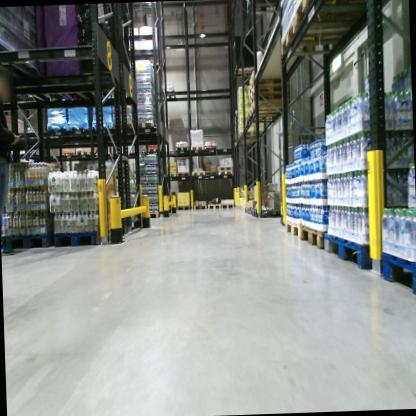pallet: (276, 10, 357, 62), (294, 0, 373, 33), (322, 228, 375, 272), (0, 37, 41, 89), (53, 221, 121, 252), (379, 249, 416, 297), (297, 221, 328, 253), (245, 67, 287, 90), (2, 235, 58, 252), (248, 78, 288, 96), (246, 0, 288, 17), (249, 101, 284, 119), (248, 85, 285, 102), (250, 93, 286, 110), (245, 109, 281, 125), (252, 207, 285, 219), (285, 215, 300, 240), (133, 117, 161, 130), (45, 118, 66, 134), (113, 115, 134, 131), (90, 121, 114, 133), (65, 119, 89, 131), (238, 130, 265, 140), (145, 208, 168, 218), (234, 65, 249, 80), (130, 147, 148, 158), (192, 198, 207, 211), (162, 87, 176, 98), (148, 146, 165, 155), (204, 145, 220, 153), (220, 200, 236, 208), (59, 150, 75, 158), (207, 201, 221, 210), (75, 149, 90, 157), (176, 204, 193, 211), (191, 145, 205, 153), (175, 145, 189, 153), (205, 170, 219, 177), (218, 165, 234, 171), (177, 171, 190, 178), (219, 171, 233, 177), (167, 171, 177, 178), (248, 206, 254, 217), (192, 171, 205, 176), (244, 205, 249, 213), (242, 204, 246, 213), (240, 204, 243, 211)
